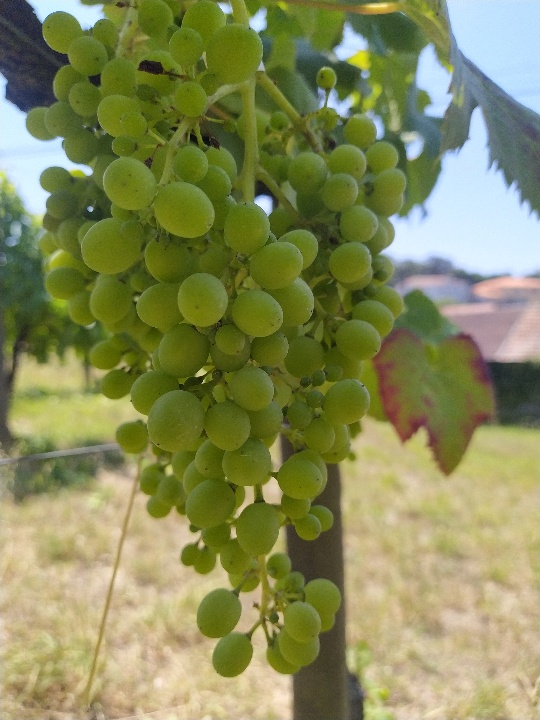grape: (24, 4, 411, 680)
